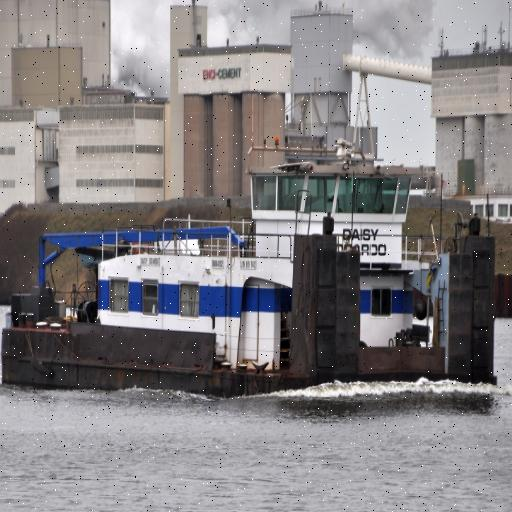tugboat: (1, 88, 502, 416)
